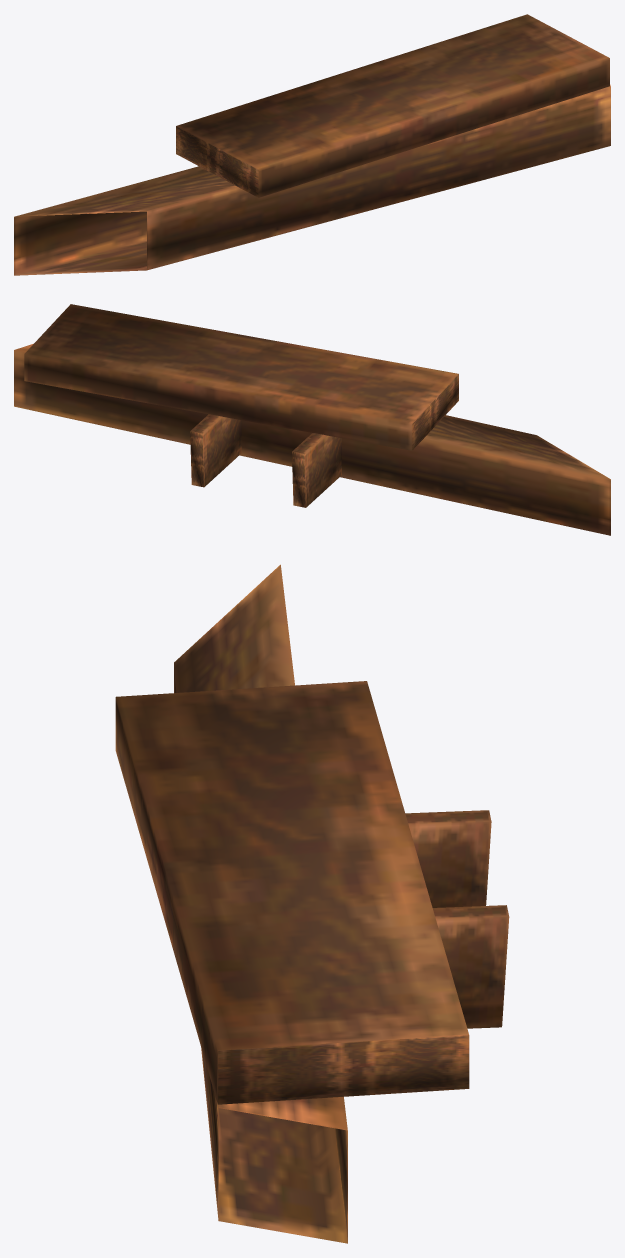
File: SWORDLIGHT20_JAILPLATFORM06.fbx
3 views of the same model, one above another, from view 1: azimuth 30°, elevation 25°; view 2: azimuth 150°, elevation 25°; view 3: azimuth 270°, elevation 25° (orthographic). The views are drawn at different scales.
Visible parts, largest first — view 1: SWORDLIGHT20_JAILPLATFORM06; view 2: SWORDLIGHT20_JAILPLATFORM06; view 3: SWORDLIGHT20_JAILPLATFORM06.
Part boxes in pixels (bbox=[...]): SWORDLIGHT20_JAILPLATFORM06: bbox=[14, 14, 610, 275]; SWORDLIGHT20_JAILPLATFORM06: bbox=[14, 304, 610, 535]; SWORDLIGHT20_JAILPLATFORM06: bbox=[115, 564, 509, 1243].
Bounding box in the file's own units: 42954 × 5988 × 12615.
Materials: 2 (2 with a texture image).
